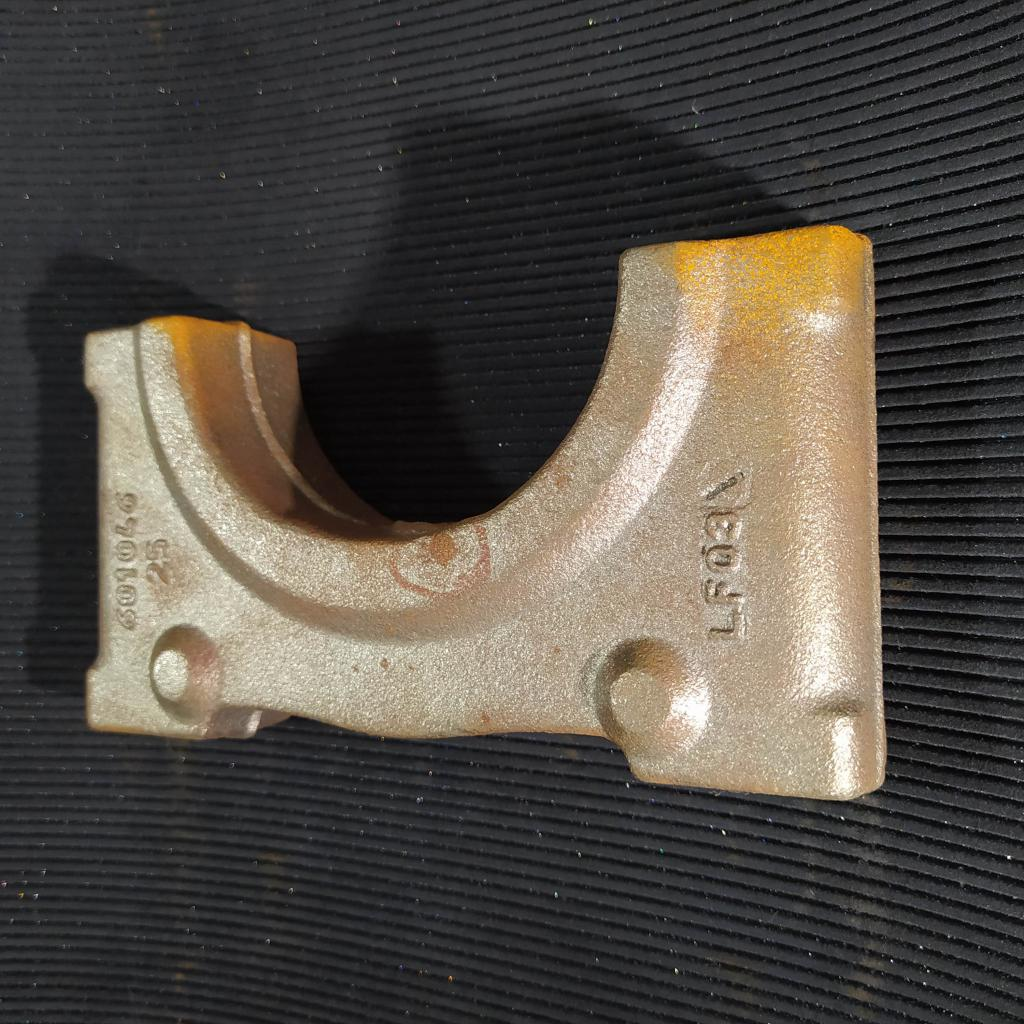mancha (ferrugem): (427, 531, 464, 574)
